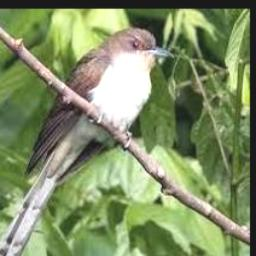Cuckoo: (0, 27, 173, 256)
